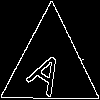A: (25, 41, 72, 98)
